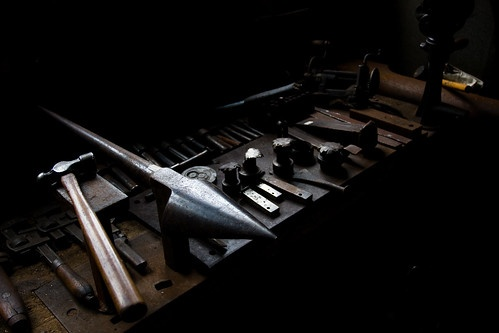hammer: (37, 149, 147, 321)
